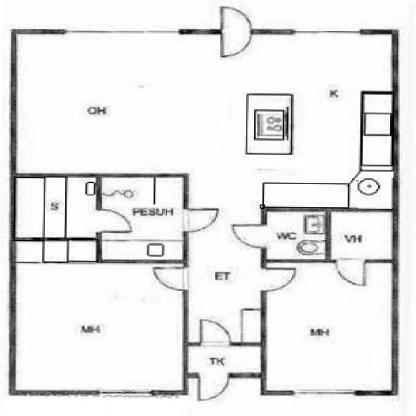door: (17, 35, 392, 342), (16, 262, 184, 390), (265, 260, 392, 389), (15, 175, 99, 260), (101, 177, 181, 260), (330, 211, 394, 259), (268, 211, 324, 260), (187, 346, 260, 372)
window: (218, 5, 254, 60), (196, 370, 232, 400), (231, 223, 269, 250), (96, 208, 134, 235), (335, 259, 368, 288), (152, 267, 188, 291), (180, 209, 220, 230), (198, 319, 230, 345), (262, 269, 296, 292)
zone: (69, 28, 179, 37), (295, 389, 352, 396), (295, 28, 361, 34), (98, 390, 148, 396)
